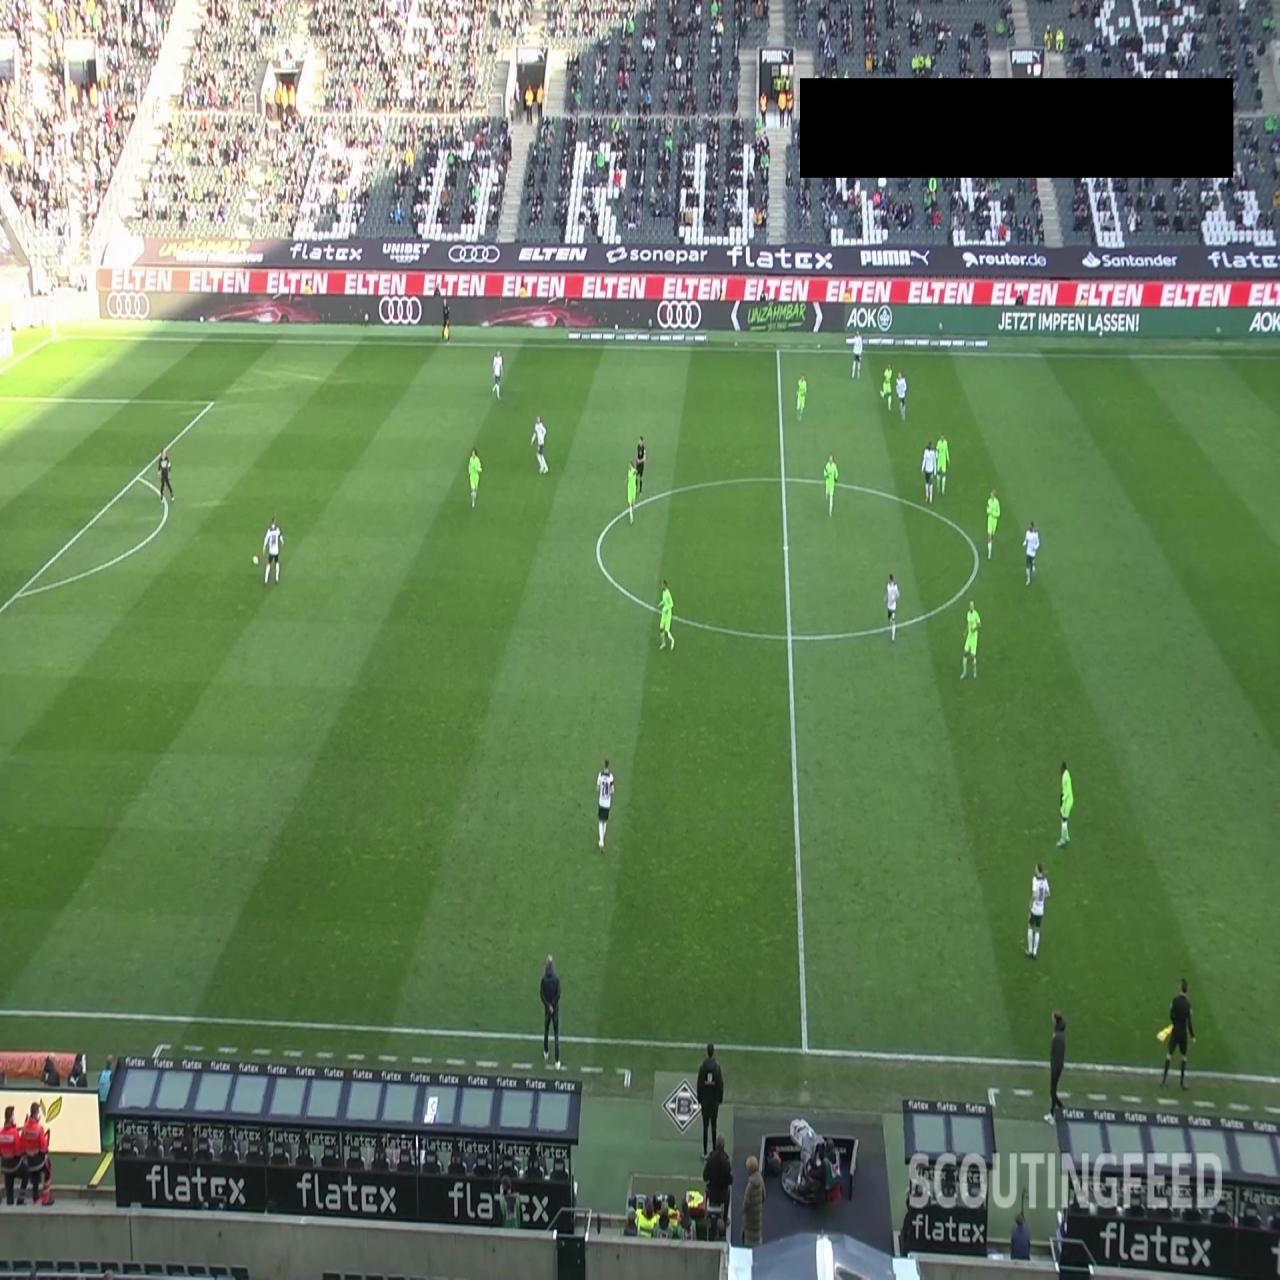ball: (252, 552, 260, 566)
goalkeeper: (158, 447, 175, 504)
player: (1026, 862, 1050, 960), (594, 757, 616, 858), (959, 598, 981, 682), (263, 516, 284, 586), (1057, 758, 1073, 848), (656, 578, 675, 652), (1022, 519, 1040, 586), (530, 415, 548, 475), (885, 571, 900, 641), (922, 439, 938, 504), (986, 487, 1000, 561), (935, 432, 950, 496), (823, 452, 838, 516), (468, 446, 483, 509), (849, 330, 863, 380), (627, 461, 637, 525), (492, 348, 504, 399), (796, 371, 807, 423), (896, 370, 907, 422), (881, 363, 892, 410)
referee: (1155, 976, 1195, 1096), (636, 435, 648, 497), (441, 298, 450, 342)
